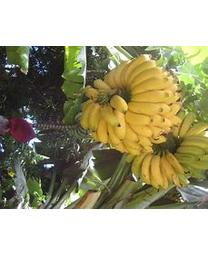banana: (84, 57, 207, 189)
